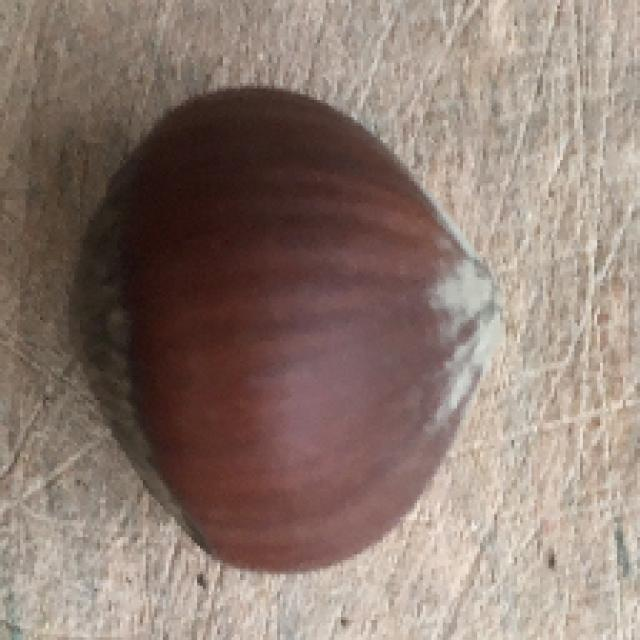damagedHazelnut: (69, 82, 503, 573)
